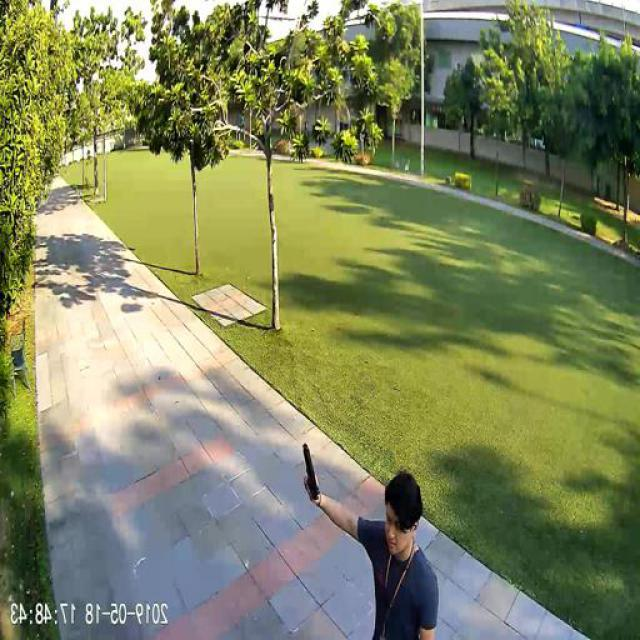Gun: (304, 442, 322, 496)
